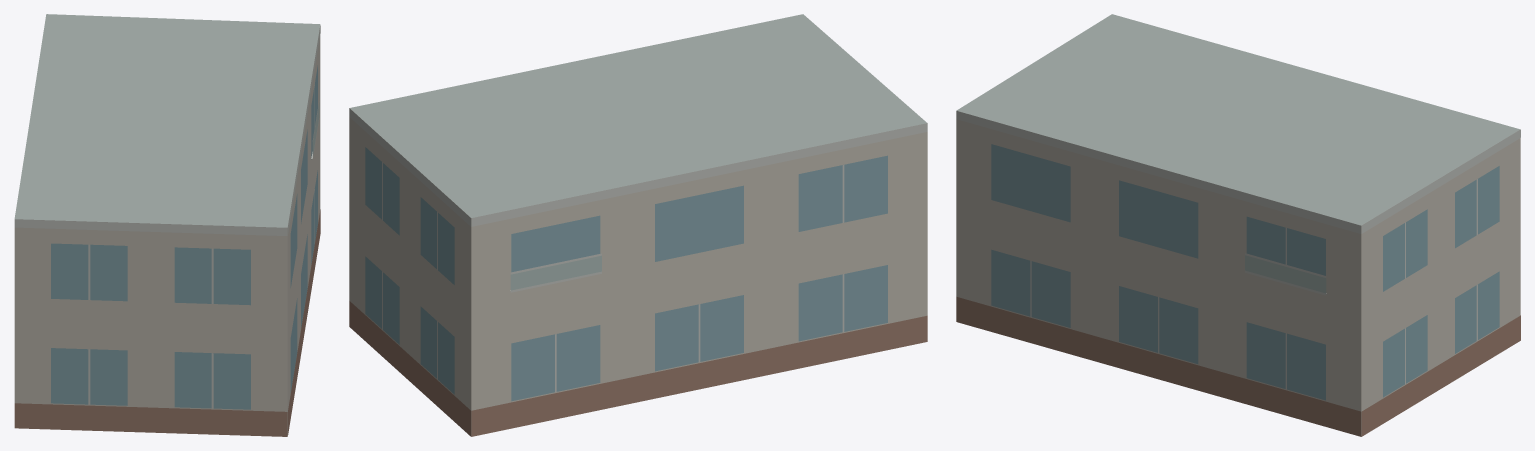
Rendered from survey-upis-32672880.glb.
3 views of the same model, side by side, from view 1: azimuth 30°, elevation 25°; view 2: azimuth 150°, elevation 25°; view 3: azimuth 270°, elevation 25° (orthographic). The views are drawn at different scales.
Parts seen in each view (by area): view 1: survey-upis-32672880.tmp; view 2: survey-upis-32672880.tmp; view 3: survey-upis-32672880.tmp.
Part boxes in pixels (left/top/right/bottom): survey-upis-32672880.tmp: left=14, top=14, right=320, bottom=436; survey-upis-32672880.tmp: left=349, top=14, right=927, bottom=436; survey-upis-32672880.tmp: left=956, top=14, right=1520, bottom=436.
Size of the model in its own units: 13.12 by 6.1 by 14.78.
